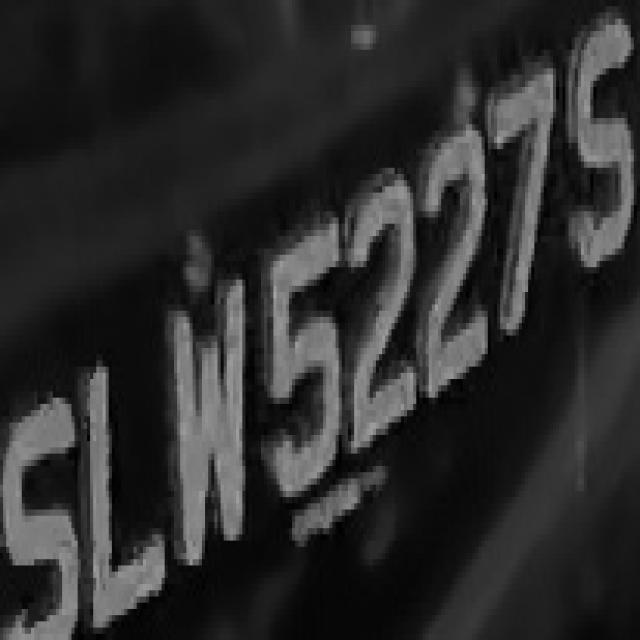2: (416, 136, 497, 422), (345, 174, 419, 466)
5: (261, 211, 342, 528)
7: (488, 62, 562, 342)
L: (78, 329, 171, 628)
S: (6, 354, 84, 640), (562, 12, 634, 274)
W: (162, 280, 252, 584)
